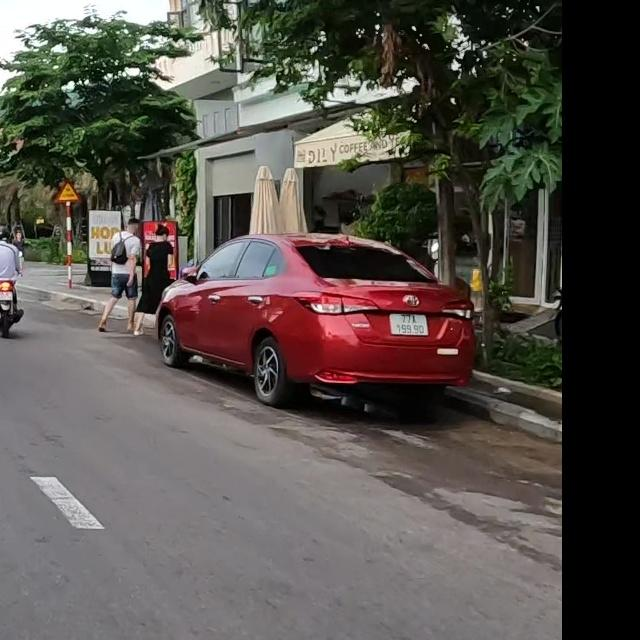license-plate: (390, 313, 428, 336)
